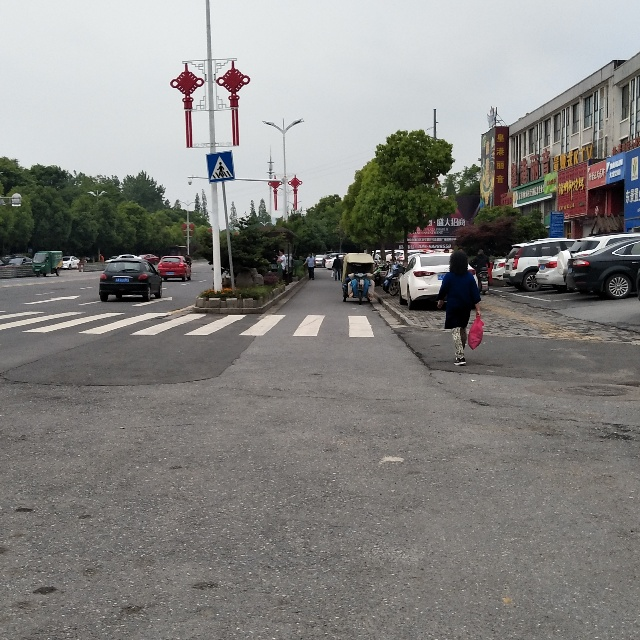crosswalk: (206, 154, 235, 180)
